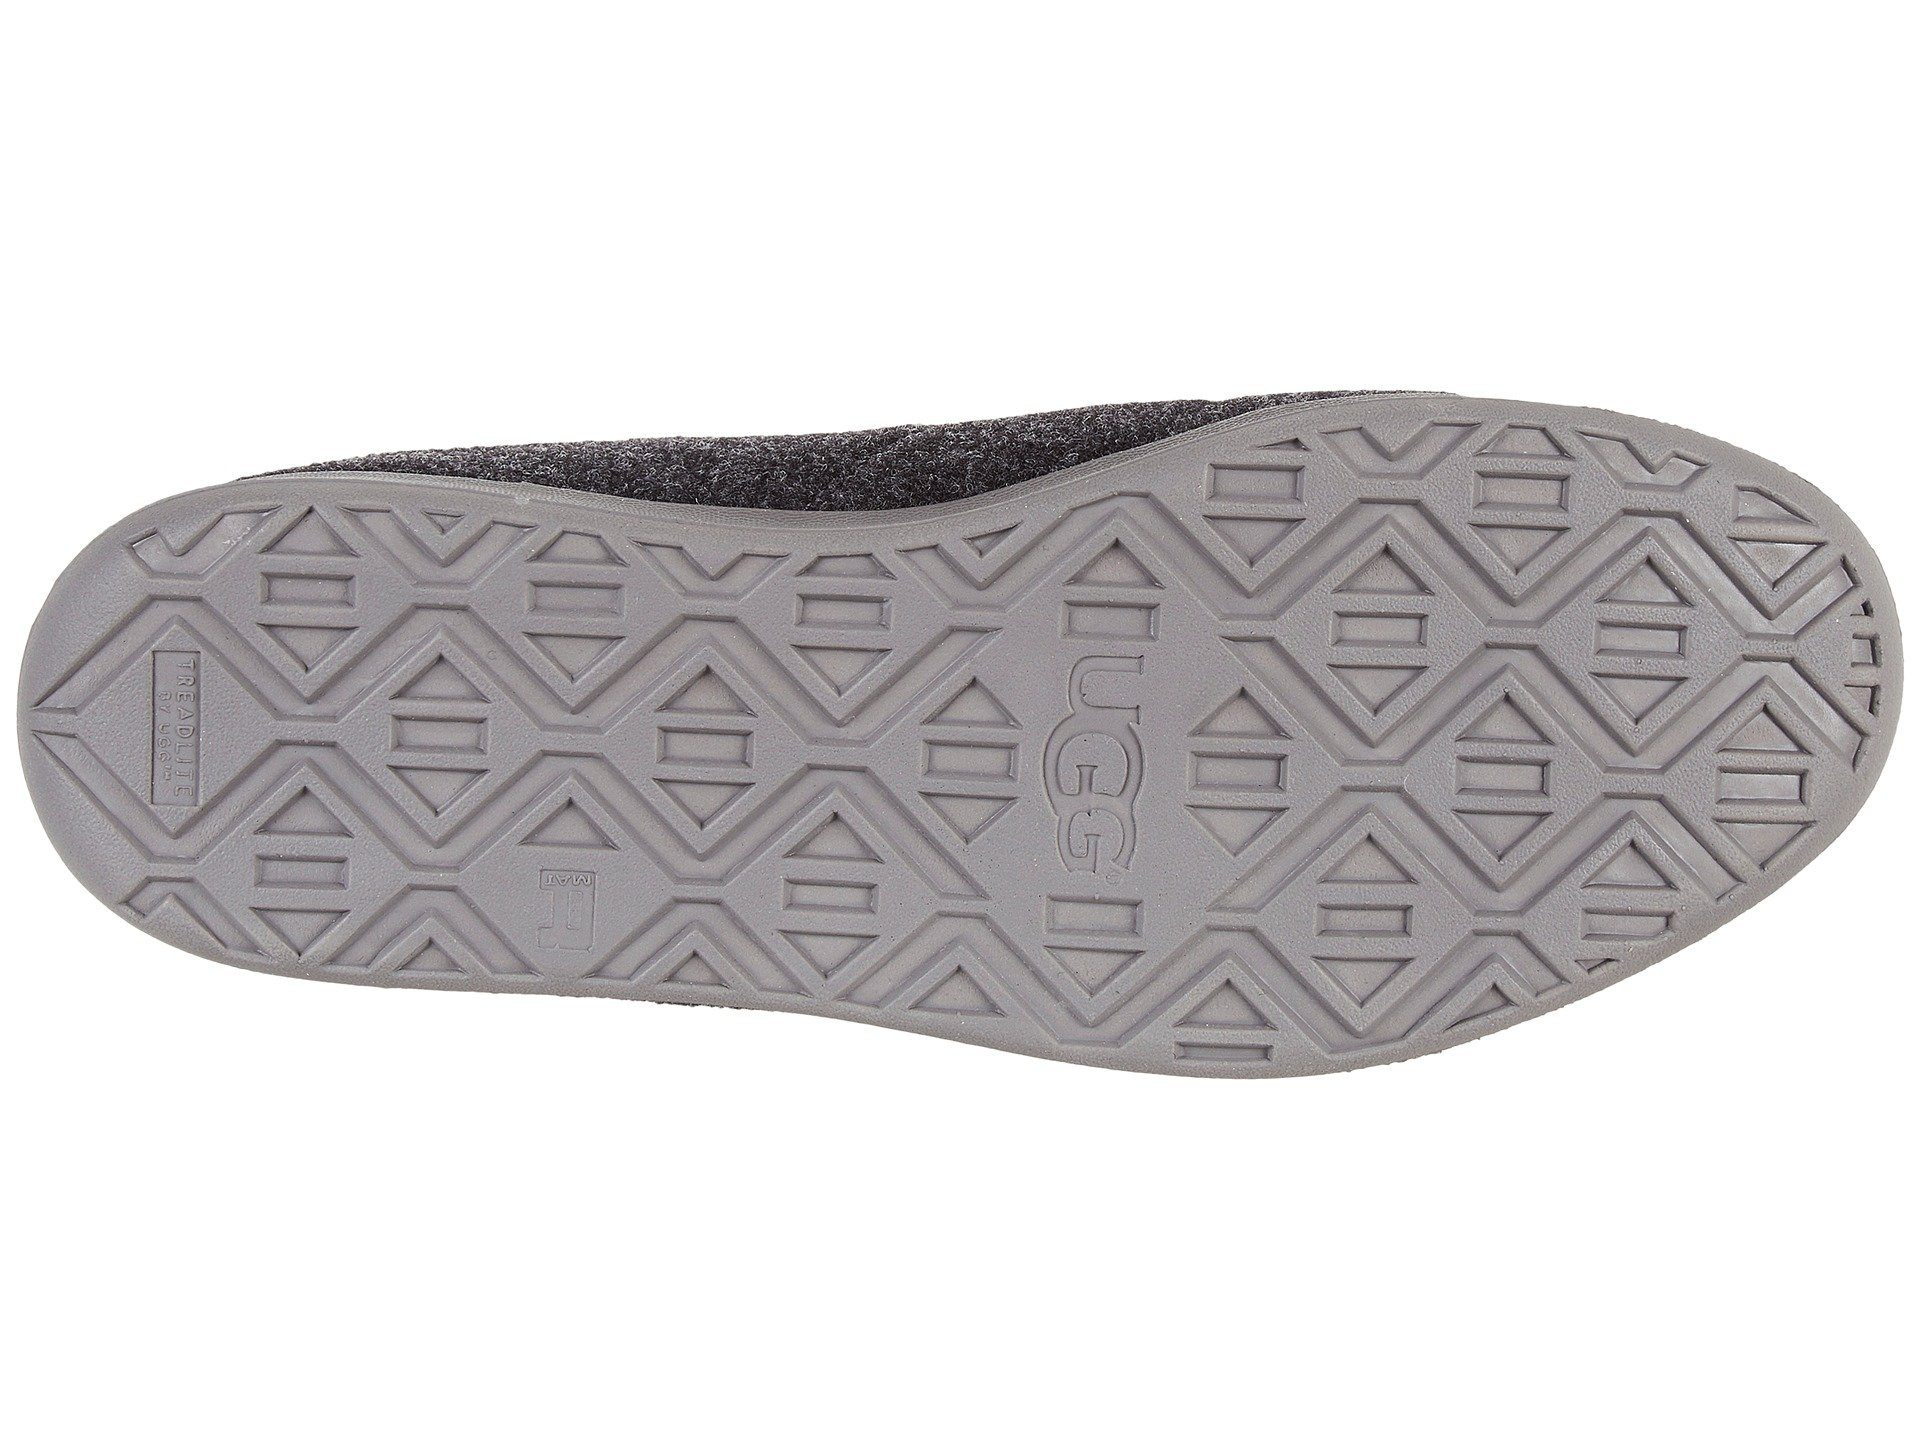chevron: (1241, 436, 1695, 915), (369, 517, 825, 988), (850, 570, 1212, 1023)
quad: (1241, 436, 1695, 915), (369, 517, 825, 988), (850, 570, 1212, 1023)
text: (850, 570, 1212, 1023)
triangle: (1241, 436, 1695, 915), (369, 517, 825, 988), (850, 570, 1212, 1023)
